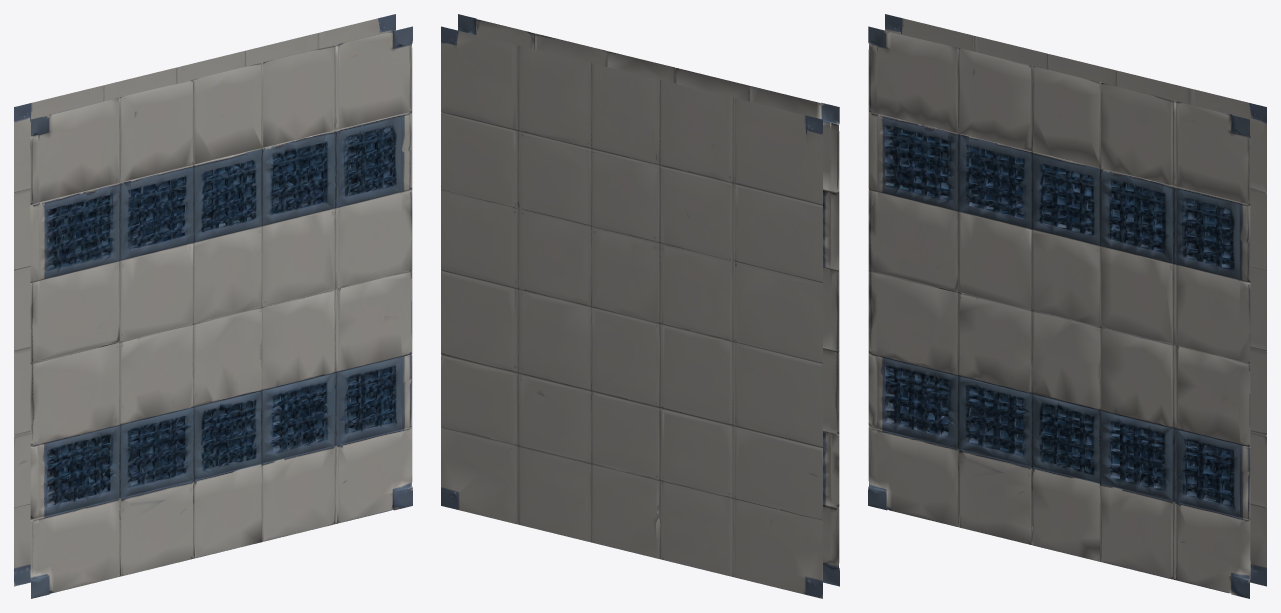
Rendered from pol_servernoi.glb.
3 views of the same model, side by side, from view 1: azimuth 30°, elevation 25°; view 2: azimuth 150°, elevation 25°; view 3: azimuth 330°, elevation 25° (orthographic).
Parts seen in each view (by area): view 1: pol_servernoi; view 2: pol_servernoi; view 3: pol_servernoi.
Part boxes in pixels (<box>): pol_servernoi: <box>14,14,412,598</box>; pol_servernoi: <box>441,14,839,598</box>; pol_servernoi: <box>868,14,1266,598</box>.
Size of the model in its own units: 3 by 3.6 by 0.2397.
1 material, 1 textured.
